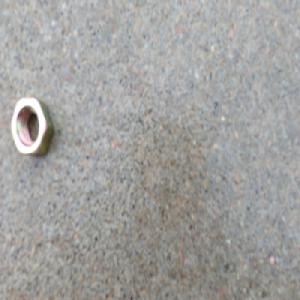Nut: (8, 94, 55, 157)
